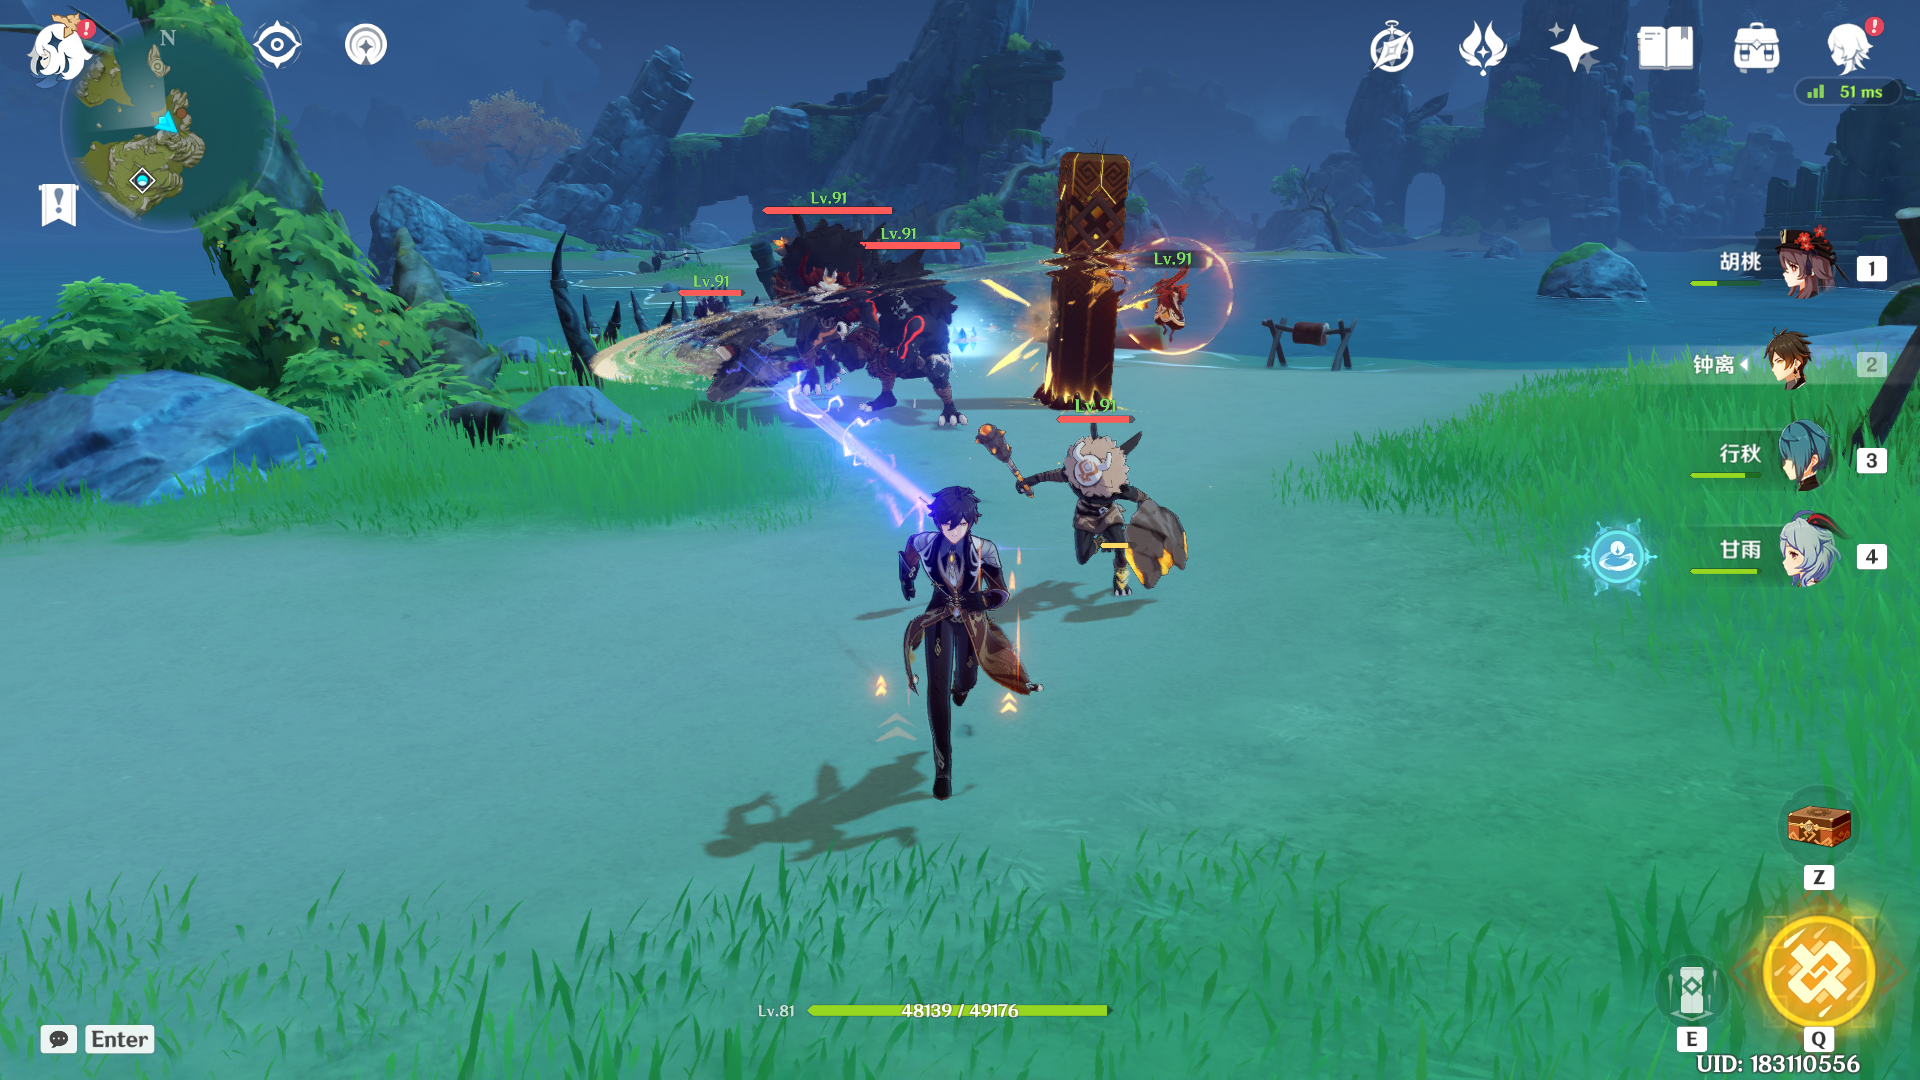bighili: (837, 252, 975, 463), (746, 214, 872, 392)
caster: (1126, 231, 1226, 392)
character: (825, 434, 1084, 823)
hili: (990, 409, 1201, 617)
